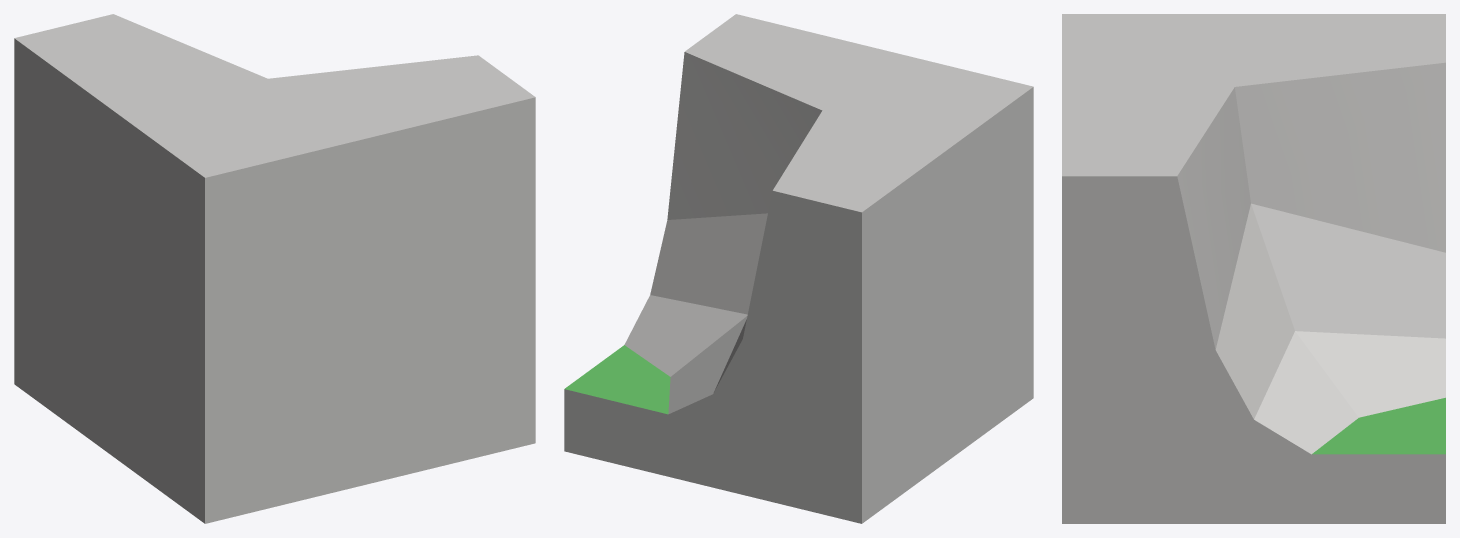
File: Cliff_Base_Corner_Inner_Sm.glb
3 views of the same model, side by side, from view 1: azimuth 30°, elevation 25°; view 2: azimuth 150°, elevation 25°; view 3: azimuth 270°, elevation 25° (orthographic). The views are drawn at different scales.
Visible parts, largest first — view 1: object1; view 2: object1; view 3: object1.
Boxes of the visible parts, <box> form: object1: <box>14,14,535,523</box>; object1: <box>564,14,1033,523</box>; object1: <box>1062,14,1445,523</box>.
Size of the model in its own units: 1 by 1 by 1.
